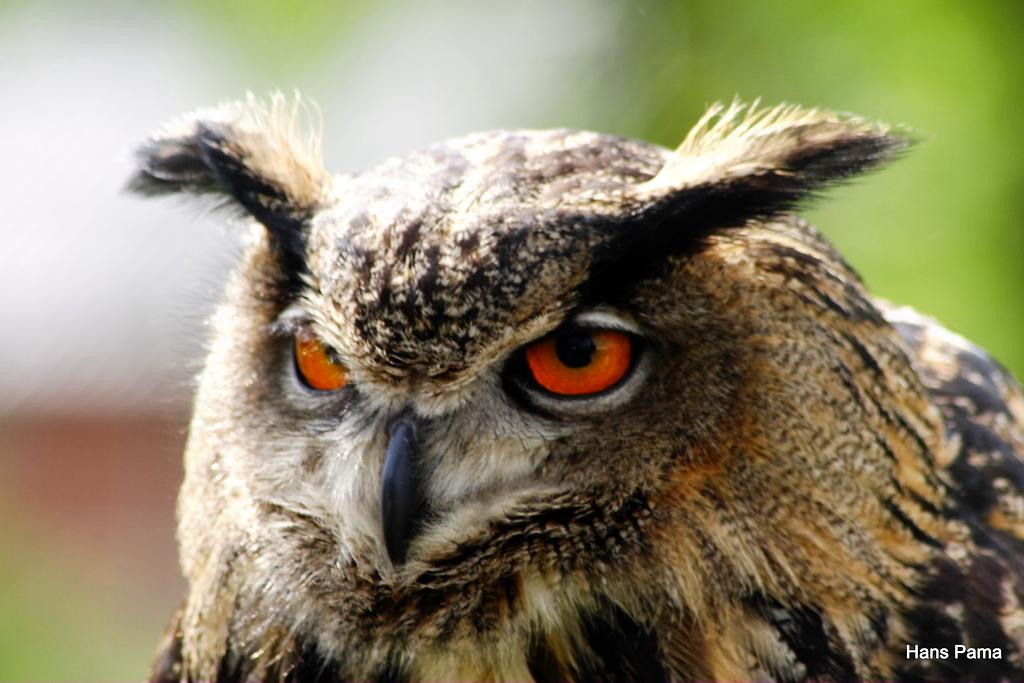Owl: (116, 89, 1024, 682)
